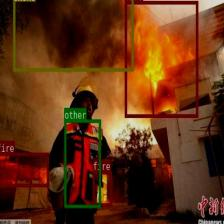fire: (124, 1, 198, 117), (0, 152, 48, 186), (92, 170, 112, 206)
smoke: (13, 0, 133, 70)
